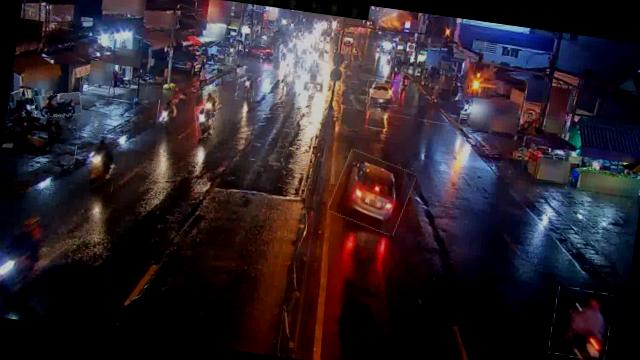Bike: (547, 286, 613, 360), (70, 132, 119, 193), (32, 89, 84, 121), (192, 105, 214, 138), (155, 98, 176, 130), (235, 72, 256, 101), (200, 88, 220, 114)
Car: (329, 151, 415, 234), (365, 77, 401, 107)
